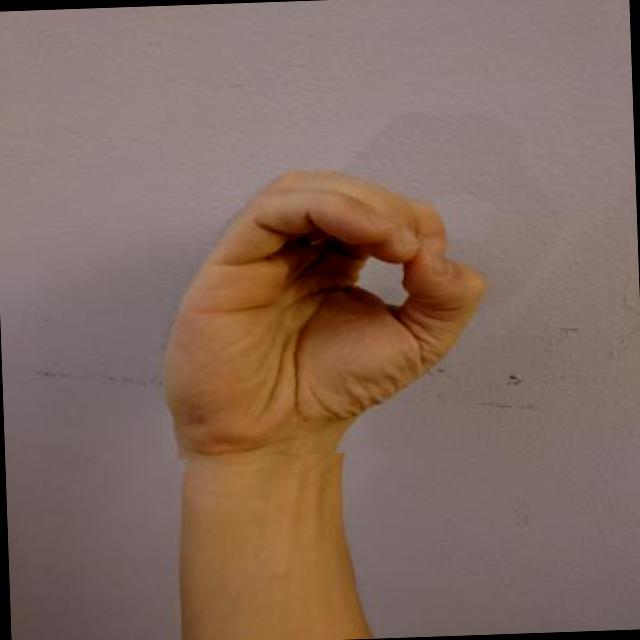O: (154, 160, 504, 460)
